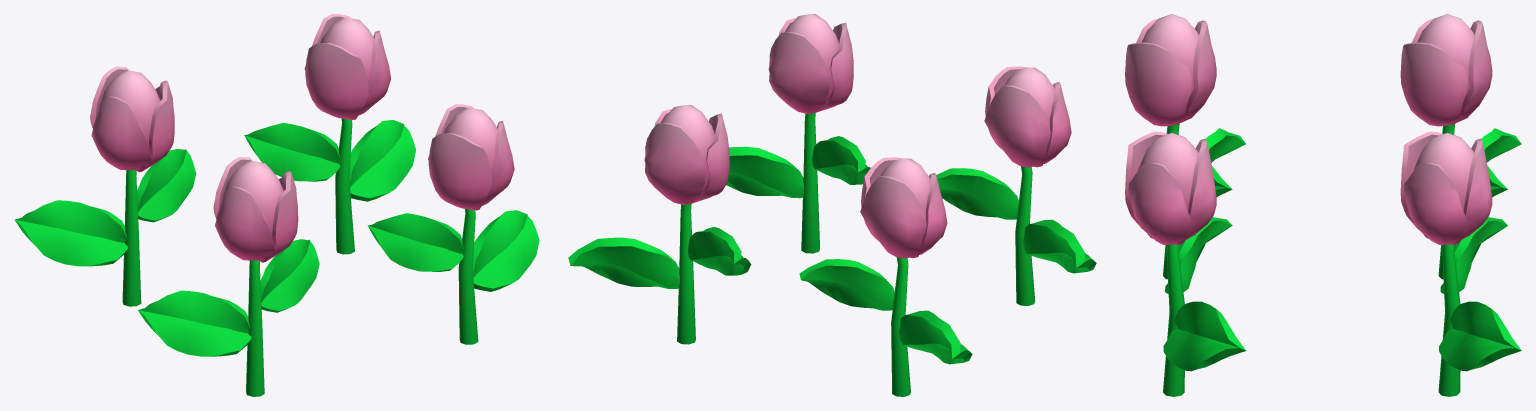
File: Farm_Crop_Tulip_02_Step_03.fbx
The picture shows the model from 3 angles, left to right: view 1: azimuth 30°, elevation 25°; view 2: azimuth 150°, elevation 25°; view 3: azimuth 270°, elevation 25°; orthographic projection. The views are drawn at different scales.
Visible parts, largest first — view 1: Farm_Crop_Tulip_02_Step_03; view 2: Farm_Crop_Tulip_02_Step_03; view 3: Farm_Crop_Tulip_02_Step_03.
Part boxes in pixels (x1=…): Farm_Crop_Tulip_02_Step_03: x1=14, y1=14, x2=539, y2=396; Farm_Crop_Tulip_02_Step_03: x1=568, y1=14, x2=1096, y2=396; Farm_Crop_Tulip_02_Step_03: x1=1125, y1=14, x2=1521, y2=396.
Bounding box in the file's own units: 182 × 104 × 144.
